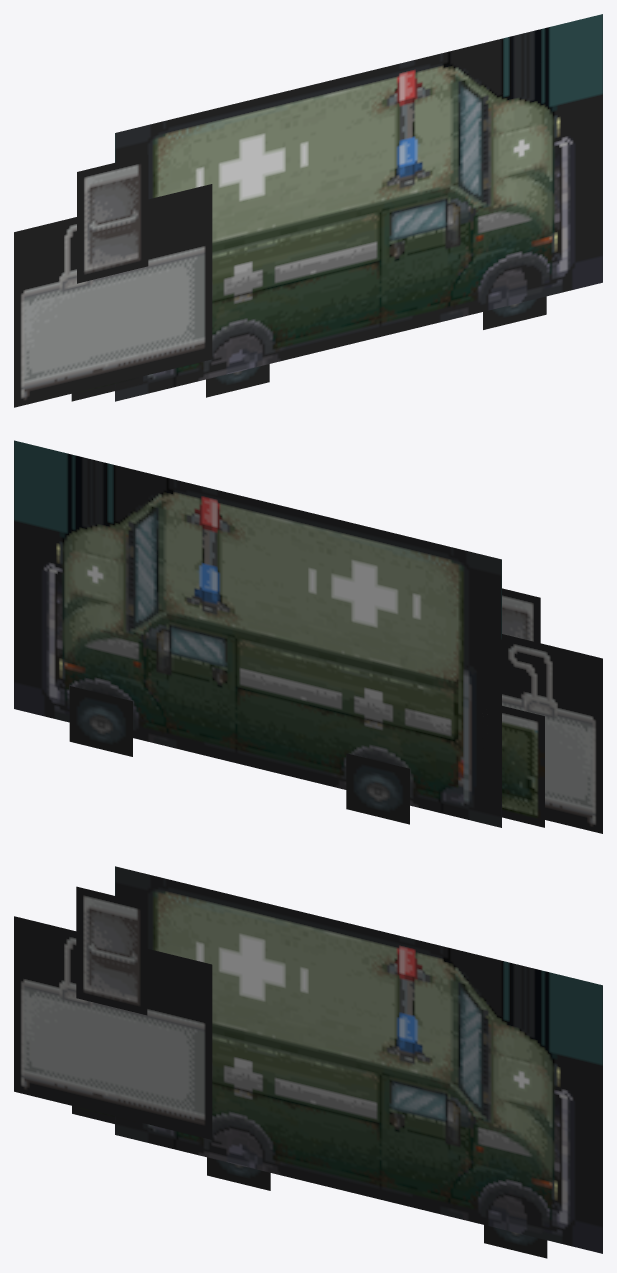
The model's file is Escape_Ambulance.glb.
The picture shows the model from 3 angles, top to bottom: view 1: azimuth 30°, elevation 25°; view 2: azimuth 150°, elevation 25°; view 3: azimuth 330°, elevation 25°; orthographic projection.
Parts seen in each view (by area): view 1: pPlane1, platform, pPlane4, Wheel2, Wheel1, pPlane5; view 2: pPlane1, platform, pPlane5, Wheel1, Wheel2, pPlane4; view 3: pPlane1, platform, pPlane4, Wheel2, Wheel1.
Part boxes in pixels (x1,y1,x2,y2): pPlane1: [115, 14, 602, 401]; platform: [14, 184, 212, 407]; pPlane4: [77, 154, 148, 283]; Wheel2: [483, 296, 546, 329]; Wheel1: [206, 364, 269, 397]; pPlane5: [71, 376, 142, 401]; pPlane1: [14, 440, 501, 827]; platform: [502, 634, 602, 833]; pPlane5: [502, 706, 544, 827]; Wheel1: [346, 753, 409, 824]; Wheel2: [69, 686, 132, 756]; pPlane4: [502, 588, 540, 643]; pPlane1: [115, 866, 602, 1253]; platform: [14, 916, 212, 1139]; pPlane4: [76, 886, 147, 1015]; Wheel2: [484, 1225, 547, 1258]; Wheel1: [207, 1157, 270, 1190].
Size of what is drawn, in the model's own units: 7.24 by 3.38 by 0.02.
2 materials, 2 textured.
